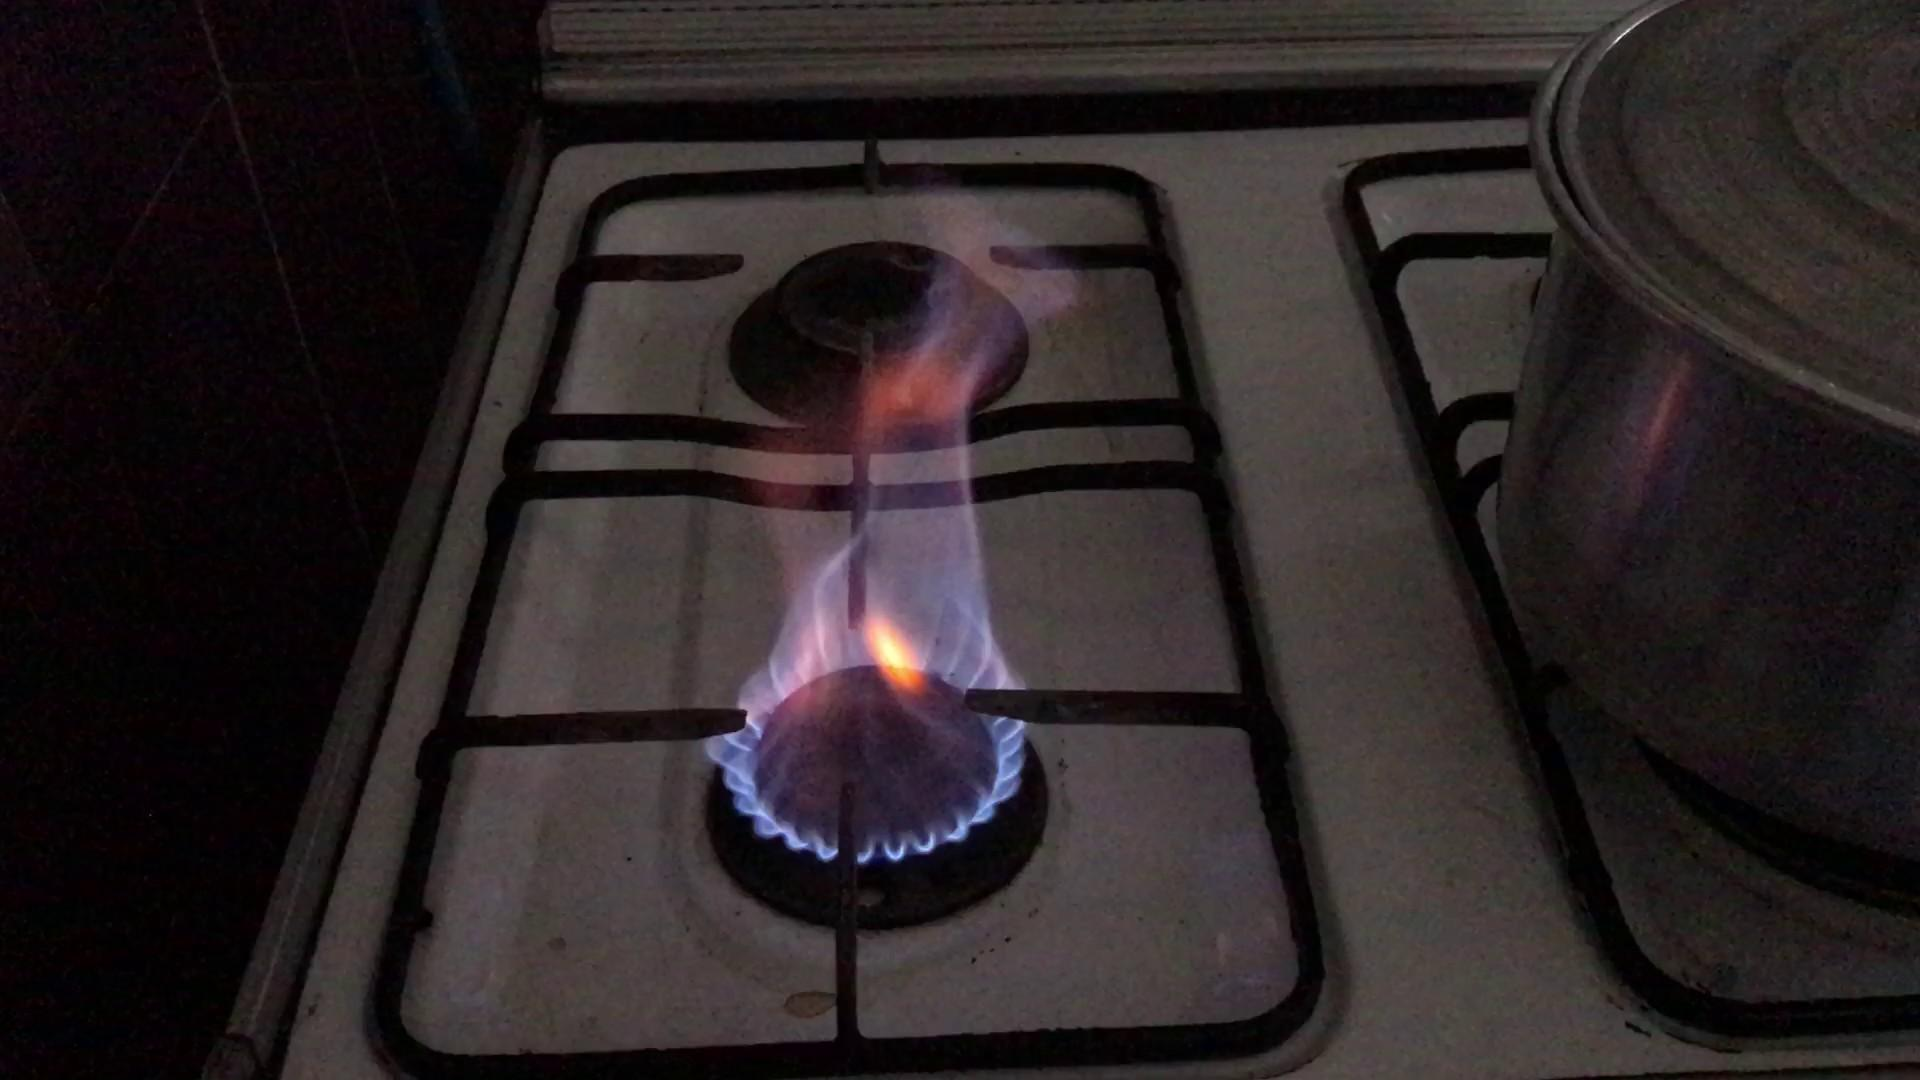fire: (738, 364, 1042, 852)
